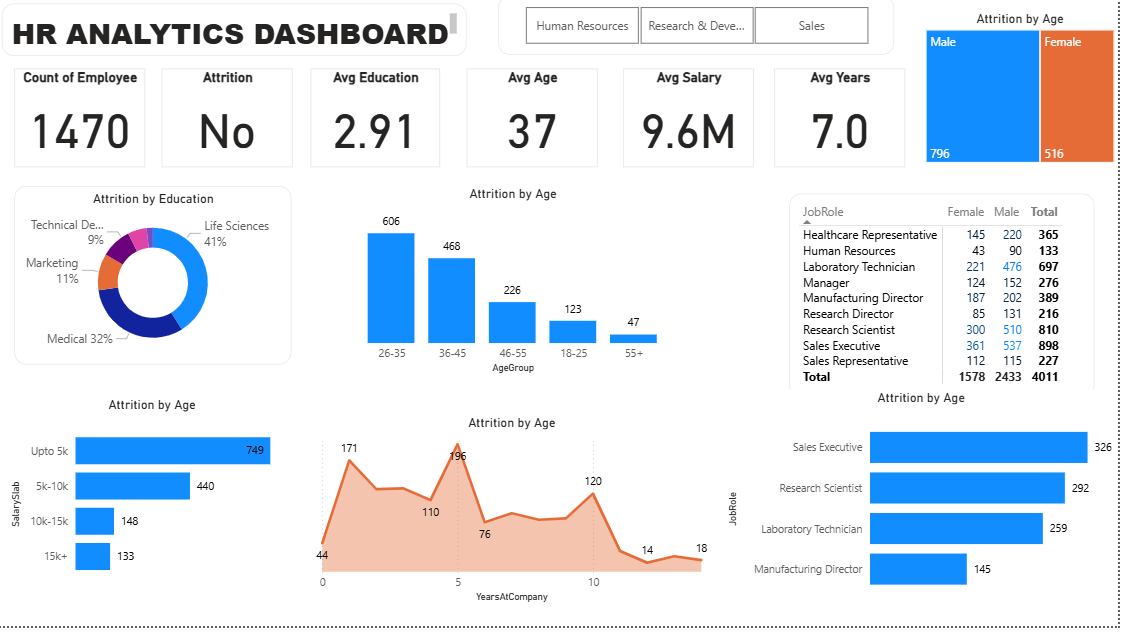

The page's visual inventory and layout, read from the dashboard file:
{"tool":"powerbi","page":{"name":"Page 1","canvas":[1280,720],"ordinal":0},"visuals":[{"type":"card","title":"Count of Employee","fields":{"Values":["CountNonNull(HR_Analytics.EmpID)"]},"box":[19.2,82.3,149.6,112.5],"z":0},{"type":"card","title":"Avg Age","fields":{"Values":["Avg(HR_Analytics.Age)"]},"box":[535.2,82.3,149.6,112.5],"z":1000},{"type":"card","title":"Attrition","fields":{"Values":["Min(HR_Analytics.Attrition)"]},"box":[186.6,82.3,149.6,112.5],"z":2000},{"type":"card","title":"Avg Education","fields":{"Values":["Avg(HR_Analytics.Education)"]},"box":[356.8,82.3,148.2,112.5],"z":3000},{"type":"card","title":"Avg Salary","fields":{"Values":["Sum(HR_Analytics.MonthlyIncome)"]},"box":[714.9,82.3,149.6,112.5],"z":4000},{"type":"card","title":"Avg Years","fields":{"Values":["Avg(HR_Analytics.YearsAtCompany)"]},"box":[887.8,82.3,149.6,112.5],"z":5000},{"type":"donutChart","title":"Attrition by Education","fields":{"Category":["HR_Analytics.EducationField"],"Y":["CountNonNull(HR_Analytics.Attrition)"]},"box":[18.5,216.7,316.4,203.8],"z":6000},{"type":"columnChart","title":"Attrition by Age","fields":{"Category":["HR_Analytics.AgeGroup"],"Y":["CountNonNull(HR_Analytics.Attrition)"]},"box":[390.6,216.7,397.7,219.5],"z":7000},{"type":"pivotTable","fields":{"Rows":["HR_Analytics.JobRole"],"Columns":["HR_Analytics.Gender"],"Values":["Sum(HR_Analytics.JobSatisfaction)"]},"box":[904.3,225,348.5,233.3],"z":8000},{"type":"barChart","title":"Attrition by Age","fields":{"Category":["HR_Analytics.SalarySlab"],"Y":["CountNonNull(HR_Analytics.Attrition)"]},"box":[9.8,458.6,332.6,220.1],"z":9000},{"type":"barChart","title":"Attrition by Age","fields":{"Category":["HR_Analytics.JobRole"],"Y":["CountNonNull(HR_Analytics.Attrition)"]},"box":[829.6,450.4,450.4,248],"z":10000},{"type":"areaChart","title":"Attrition by Age","fields":{"Category":["HR_Analytics.YearsAtCompany"],"Y":["CountNonNull(HR_Analytics.Attrition)"]},"box":[356.3,478.9,463.3,219.5],"z":11000},{"type":"treemap","title":"Attrition by Age","fields":{"Group":["HR_Analytics.Gender"],"Values":["CountNonNull(HR_Analytics.Attrition)"]},"box":[1055.2,16.5,225,178.4],"z":12000},{"type":"slicer","fields":{"Values":["HR_Analytics.Department"]},"box":[570.8,0,452.8,67.2],"z":13000},{"type":"textbox","box":[4.1,8.2,531,60.4],"z":13001}]}

Visuals, with their boxes in screenshot pixels (x1, y1, x2, y2), scaled from the page's 1280x720 canvas onto the 1128x639 screenshot:
"Count of Employee" card: 17, 73, 149, 173
"Avg Age" card: 472, 73, 603, 173
"Attrition" card: 164, 73, 296, 173
"Avg Education" card: 314, 73, 445, 173
"Avg Salary" card: 630, 73, 762, 173
"Avg Years" card: 782, 73, 914, 173
"Attrition by Education" donutChart: 16, 192, 295, 373
"Attrition by Age" columnChart: 344, 192, 695, 387
pivotTable - HR_Analytics.JobRole x HR_Analytics.Gender: 797, 200, 1104, 407
"Attrition by Age" barChart: 9, 407, 302, 602
"Attrition by Age" barChart: 731, 400, 1127, 620
"Attrition by Age" areaChart: 314, 425, 722, 620
"Attrition by Age" treemap: 930, 15, 1127, 173
slicer - HR_Analytics.Department: 503, 0, 902, 60
textbox: 4, 7, 472, 61
